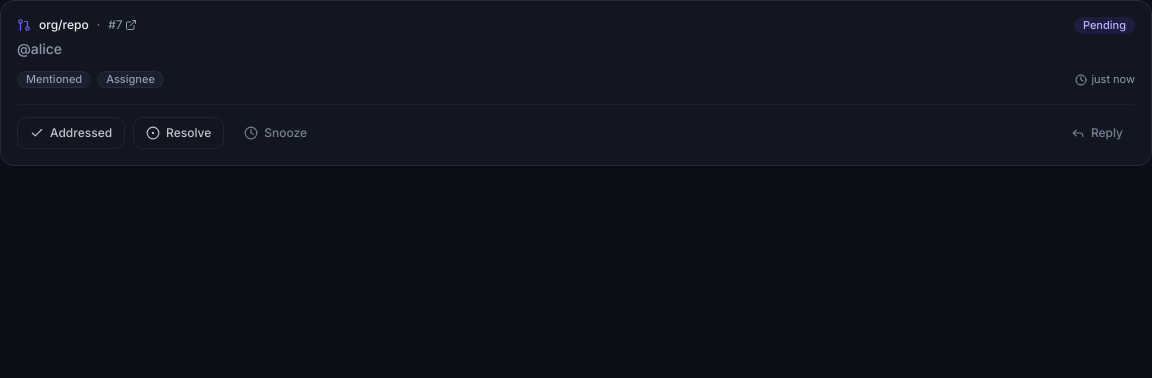
Test case: CommentCard › surfaces a token-write-scope banner on reply failure
Click the button "Reply": (1097, 133) top-left (1059, 117), bottom-right (1135, 149)
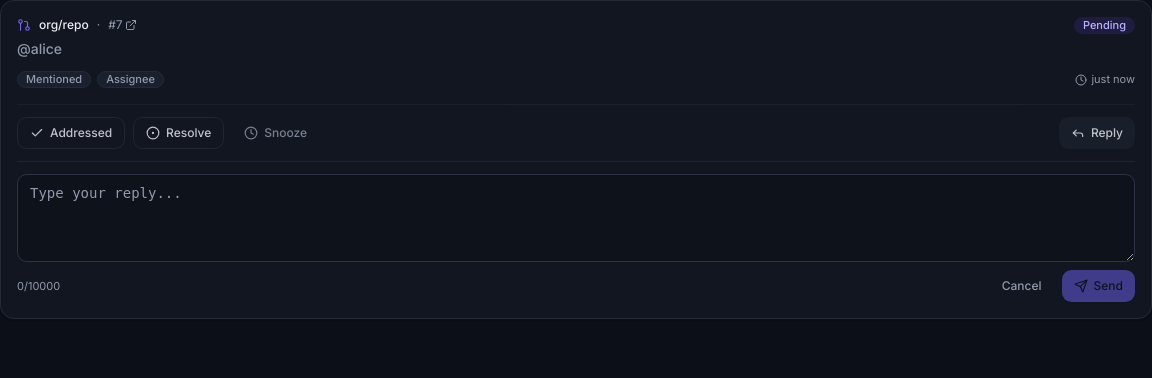
In the text box labelled "Type your reply...": (576, 218) top-left (17, 174), bottom-right (1135, 262), type "x"
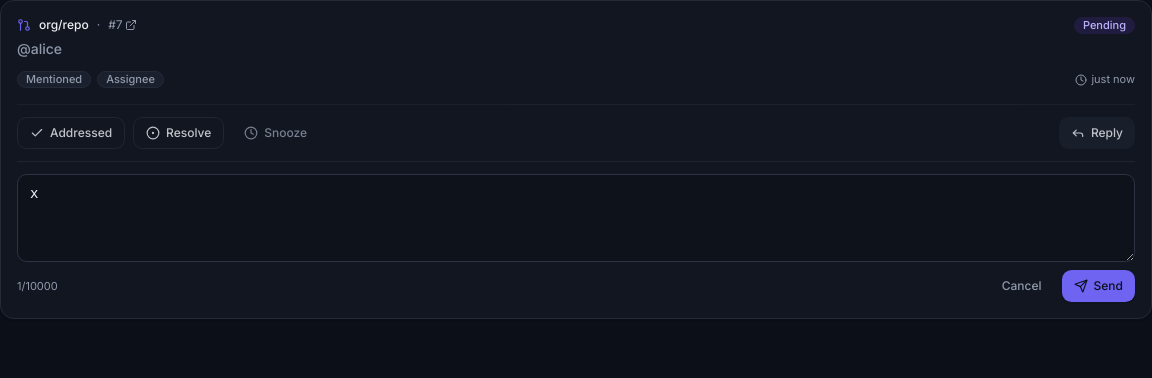
Click the button "Send": (1098, 286) top-left (1062, 270), bottom-right (1135, 302)
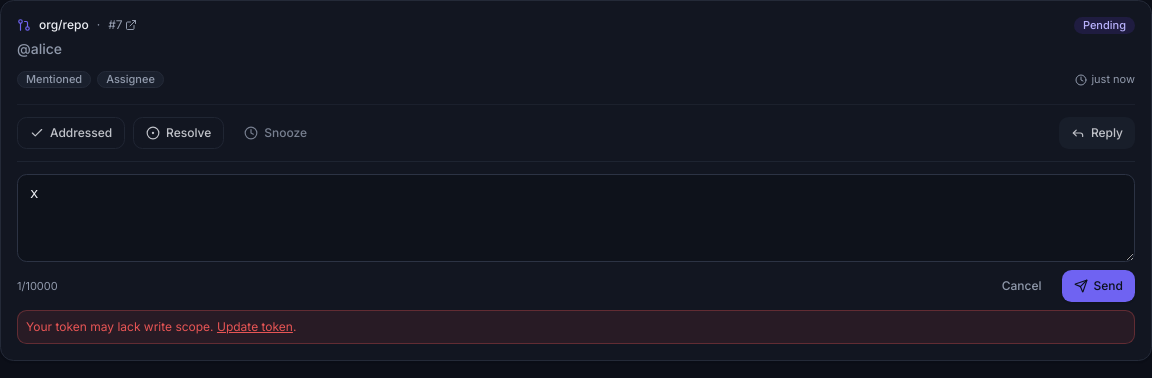
Expected: the text "Your token may lack write scope. Update token ." is shown, top-left (17, 310), bottom-right (1135, 344)
